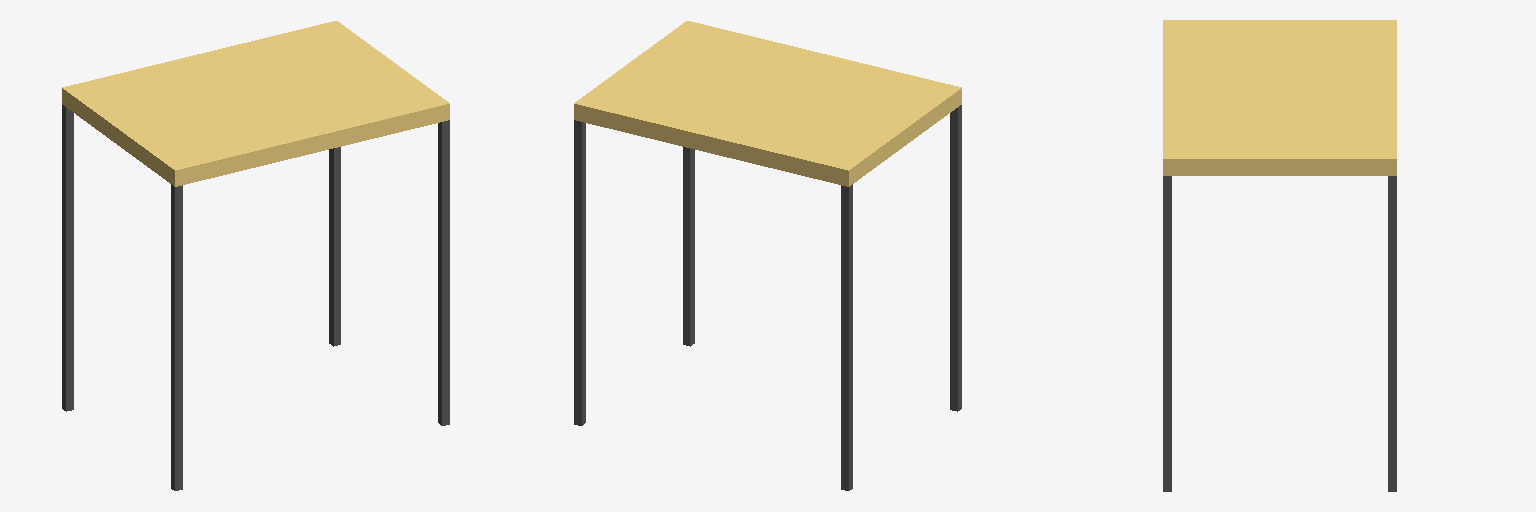
robot.urdf — table:
<?xml version="1.0" ?>
<!-- =================================================================================== -->
<!-- |    This document was autogenerated by xacro from table.xacro                    | -->
<!-- |    EDITING THIS FILE BY HAND IS NOT RECOMMENDED                                 | -->
<!-- =================================================================================== -->
<robot name="table" xmlns:xacro="http://www.ros.org/wiki/xacro">
  <!-- Import all Gazebo-customization elements, including Gazebo colors -->
  <gazebo reference="table_link">
    <material>Gazebo/Wood</material>
  </gazebo>
  <gazebo reference="front_right_leg">
    <material>Gazebo/Grey</material>
  </gazebo>
  <gazebo reference="front_left_leg">
    <material>Gazebo/Grey</material>
  </gazebo>
  <gazebo reference="rear_left_leg">
    <material>Gazebo/Grey</material>
  </gazebo>
  <gazebo reference="rear_right_leg">
    <material>Gazebo/Grey</material>
  </gazebo>
  <!-- Import Rviz colors -->
  <material name="red">
    <color rgba="0.8 0.0 0.0 1.0"/>
  </material>
  <material name="Grey">
    <color rgba="0.6 0.6 0.6 1.0"/>
  </material>
  <material name="Black">
    <color rgba="0.0 0.0 0.0 1"/>
  </material>
  <material name="Blue">
    <color rgba="0.0 0.0 1.0 1"/>
  </material>
  <material name="Wood">
    <color rgba="1 0.88 0.56 1"/>
  </material>
  <!--xacro:macro name="table" params="parent"-->
  <link name="table_link">
    <visual>
      <origin rpy="0 0 0" xyz="0 0 -0.02"/>
      <geometry>
        <box size="0.7 0.5 0.04"/>
      </geometry>
      <material name="Wood">
        <color rgba="1 0.88 0.56 1"/>
      </material>
    </visual>
    <inertial>
      <origin rpy="0 0 0" xyz="0 0 0"/>
      <mass value="1"/>
      <inertia ixx="0.0616666666667" ixy="0.0" ixz="0.0" iyy="0.0209666666667" iyz="0.0" izz="0.0409666666667"/>
    </inertial>
    <collision>
      <origin rpy="0 0 0" xyz="0 0 0"/>
      <geometry>
        <box size="0.7 0.5 0.04"/>
      </geometry>
    </collision>
  </link>
  <link name="front_left_leg">
    <visual>
      <origin rpy="0 0 0" xyz="0 0 -0.02"/>
      <geometry>
        <box size="0.02 0.02 0.74"/>
      </geometry>
      <material name="Grey">
        <color rgba="0.4 0.4 0.4 1"/>
      </material>
    </visual>
    <inertial>
      <origin rpy="0 0 0" xyz="0 0 0"/>
      <mass value="1"/>
      <inertia ixx="0.0114166666667" ixy="0.0" ixz="0.0" iyy="1.66666666667e-05" iyz="0.0" izz="0.0114166666667"/>
    </inertial>
    <collision>
      <origin rpy="0 0 0" xyz="0 0 0"/>
      <geometry>
        <box size="0.02 0.02 0.74"/>
      </geometry>
    </collision>
  </link>
  <joint name="link_front_left_leg" type="fixed">
    <origin rpy="0 0 0" xyz="0.34 0.24 -0.39"/>
    <parent link="table_link"/>
    <child link="front_left_leg"/>
  </joint>
  <link name="front_right_leg">
    <visual>
      <origin rpy="0 0 0" xyz="0 0 -0.02"/>
      <geometry>
        <box size="0.02 0.02 0.74"/>
      </geometry>
      <material name="Grey">
        <color rgba="0.4 0.4 0.4 1"/>
      </material>
    </visual>
    <inertial>
      <origin rpy="0 0 0" xyz="0 0 0"/>
      <mass value="1"/>
      <inertia ixx="0.0114166666667" ixy="0.0" ixz="0.0" iyy="1.66666666667e-05" iyz="0.0" izz="0.0114166666667"/>
    </inertial>
    <collision>
      <origin rpy="0 0 0" xyz="0 0 0"/>
      <geometry>
        <box size="0.02 0.02 0.74"/>
      </geometry>
    </collision>
  </link>
  <joint name="link_front_right_leg" type="fixed">
    <origin rpy="0 0 0" xyz="0.34 -0.24 -0.39"/>
    <parent link="table_link"/>
    <child link="front_right_leg"/>
  </joint>
  <link name="rear_left_leg">
    <visual>
      <origin rpy="0 0 0" xyz="0 0 -0.02"/>
      <geometry>
        <box size="0.02 0.02 0.74"/>
      </geometry>
      <material name="Grey">
        <color rgba="0.4 0.4 0.4 1"/>
      </material>
    </visual>
    <inertial>
      <origin rpy="0 0 0" xyz="0 0 0"/>
      <mass value="1"/>
      <inertia ixx="0.0114166666667" ixy="0.0" ixz="0.0" iyy="1.66666666667e-05" iyz="0.0" izz="0.0114166666667"/>
    </inertial>
    <collision>
      <origin rpy="0 0 0" xyz="0 0 0"/>
      <geometry>
        <box size="0.02 0.02 0.74"/>
      </geometry>
    </collision>
  </link>
  <joint name="link_rear_left_leg" type="fixed">
    <origin rpy="0 0 0" xyz="-0.34 0.24 -0.39"/>
    <parent link="table_link"/>
    <child link="rear_left_leg"/>
  </joint>
  <link name="rear_right_leg">
    <visual>
      <origin rpy="0 0 0" xyz="0 0 -0.02"/>
      <geometry>
        <box size="0.02 0.02 0.74"/>
      </geometry>
      <material name="Grey">
        <color rgba="0.4 0.4 0.4 1"/>
      </material>
    </visual>
    <inertial>
      <origin rpy="0 0 0" xyz="0 0 0"/>
      <mass value="1"/>
      <inertia ixx="0.0114166666667" ixy="0.0" ixz="0.0" iyy="1.66666666667e-05" iyz="0.0" izz="0.0114166666667"/>
    </inertial>
    <collision>
      <origin rpy="0 0 0" xyz="0 0 0"/>
      <geometry>
        <box size="0.02 0.02 0.74"/>
      </geometry>
    </collision>
  </link>
  <joint name="link_rear_right_leg" type="fixed">
    <origin rpy="0 0 0" xyz="-0.34 -0.24 -0.39"/>
    <parent link="table_link"/>
    <child link="rear_right_leg"/>
  </joint>
</robot>

--- Facts derived from the render (not from the file) ---
3 views of the same robot in one strip: view 1: azimuth 30°, elevation 25°; view 2: azimuth 150°, elevation 25°; view 3: azimuth 270°, elevation 25° (orthographic).
Robot: table — 5 links, 4 joints (4 fixed); root link table_link; default pose: all joints at 0.
Links seen in each view (by area): view 1: table_link, rear_right_leg, front_right_leg, rear_left_leg, front_left_leg; view 2: table_link, rear_left_leg, front_left_leg, rear_right_leg, front_right_leg; view 3: table_link, front_left_leg, front_right_leg.
Boxes of the visible links, bbox=[...] form: table_link: bbox=[62, 21, 449, 186]; rear_right_leg: bbox=[171, 184, 182, 490]; front_right_leg: bbox=[438, 120, 449, 425]; rear_left_leg: bbox=[62, 105, 73, 411]; front_left_leg: bbox=[329, 147, 340, 346]; table_link: bbox=[574, 21, 961, 186]; rear_left_leg: bbox=[841, 184, 852, 490]; front_left_leg: bbox=[574, 120, 585, 425]; rear_right_leg: bbox=[950, 105, 961, 411]; front_right_leg: bbox=[683, 147, 694, 346]; table_link: bbox=[1163, 20, 1396, 175]; front_left_leg: bbox=[1388, 176, 1396, 491]; front_right_leg: bbox=[1163, 176, 1171, 491].
Bounding box of the posed robot: 0.7 × 0.5 × 0.78 m (x, y, z).
Geometry: primitives only (box / cylinder / sphere), no mesh files.